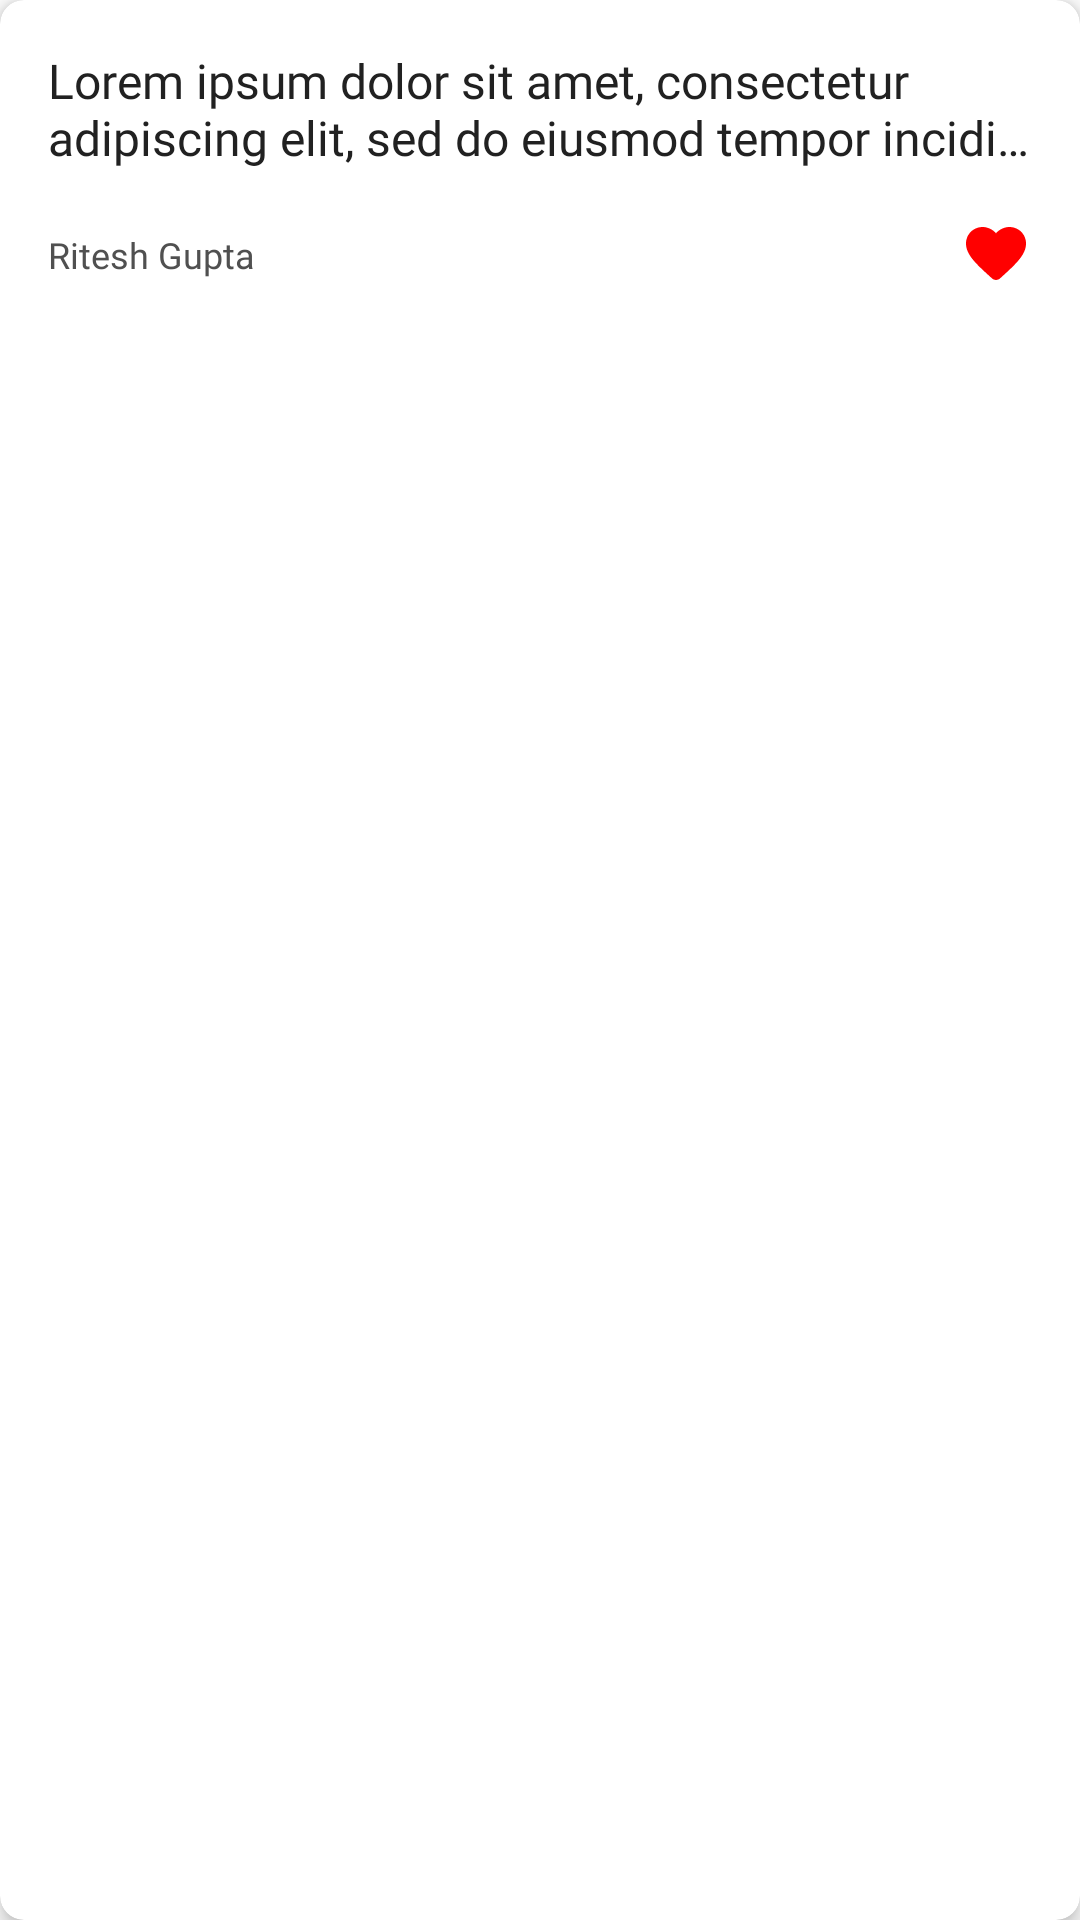

Icon bounding boxes for this 1080 × 1920 phone screenshot, format detection(x1, y1, x2, y2):
favorite: detection(966, 227, 1026, 280)
